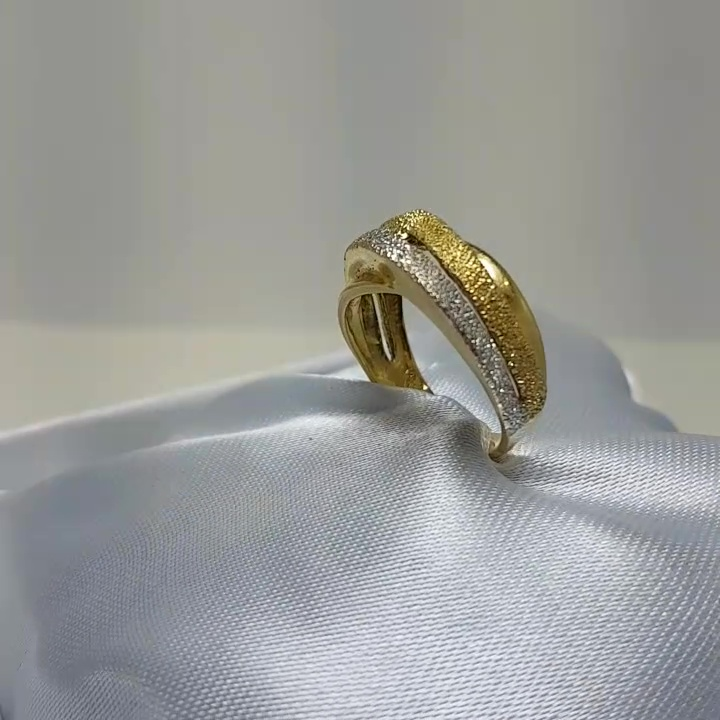Ring 5: (290, 198, 577, 468)
